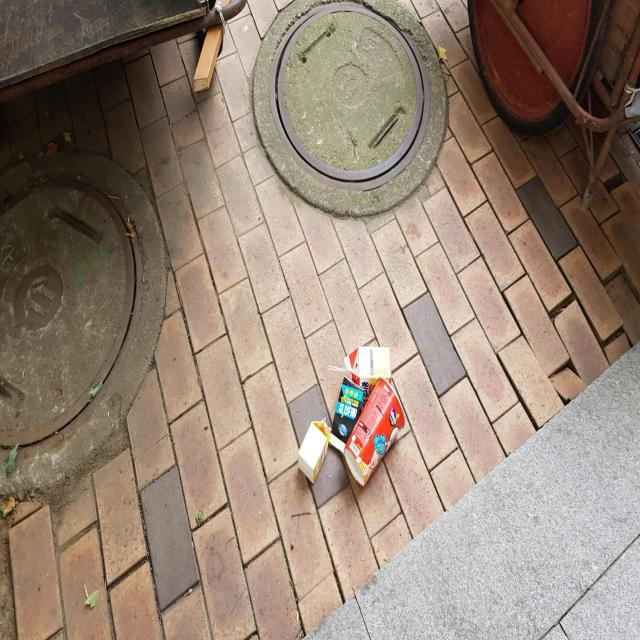paperpack: (344, 379, 405, 485), (330, 377, 364, 452), (299, 419, 331, 483), (345, 346, 392, 384)
